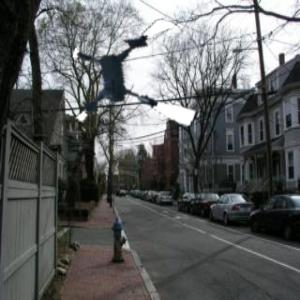drone: (69, 12, 208, 151)
